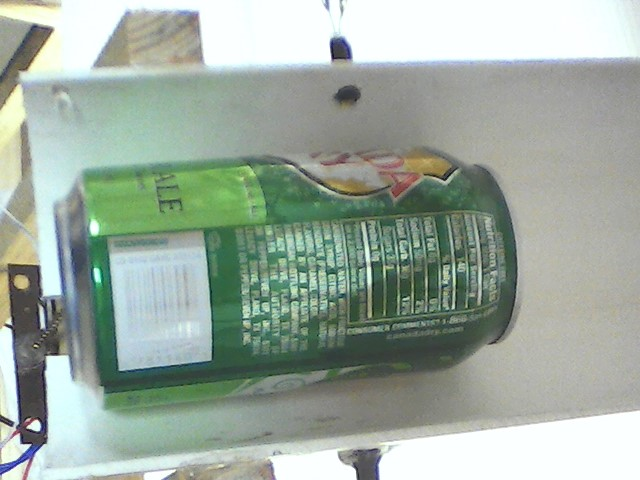lata: (53, 145, 526, 416)
